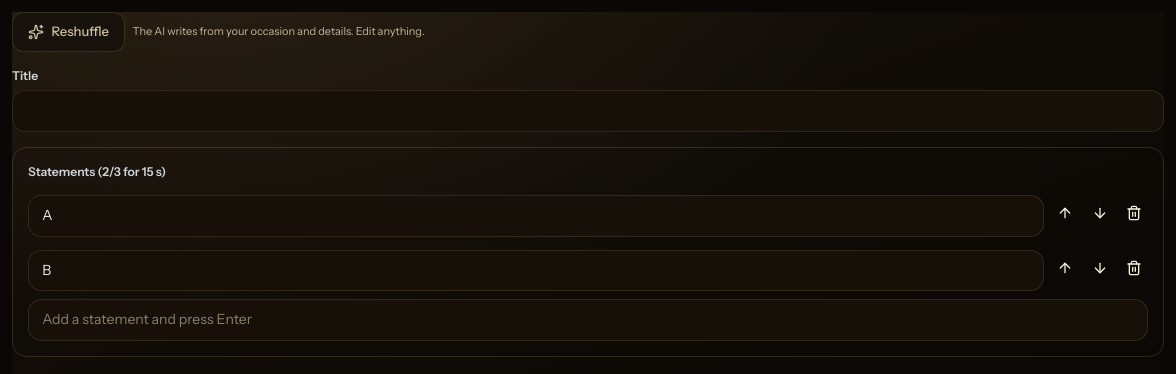
Test: MomentsWordsStep › reorders, deletes and adds statements, each building from the words just saved
Click the button named "move statement 2 up": [1065, 268] box left=1051, top=254, right=1079, bottom=281
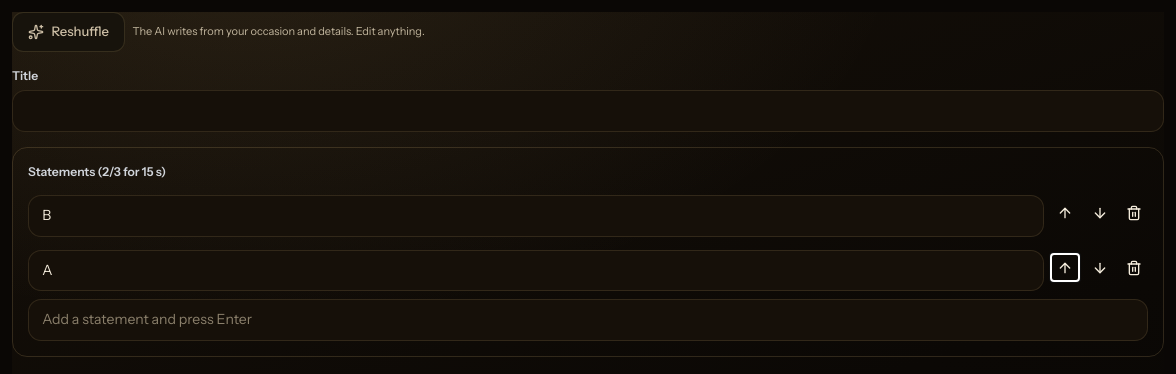
Click the button named "delete statement 1": [1134, 213] box left=1121, top=199, right=1148, bottom=226
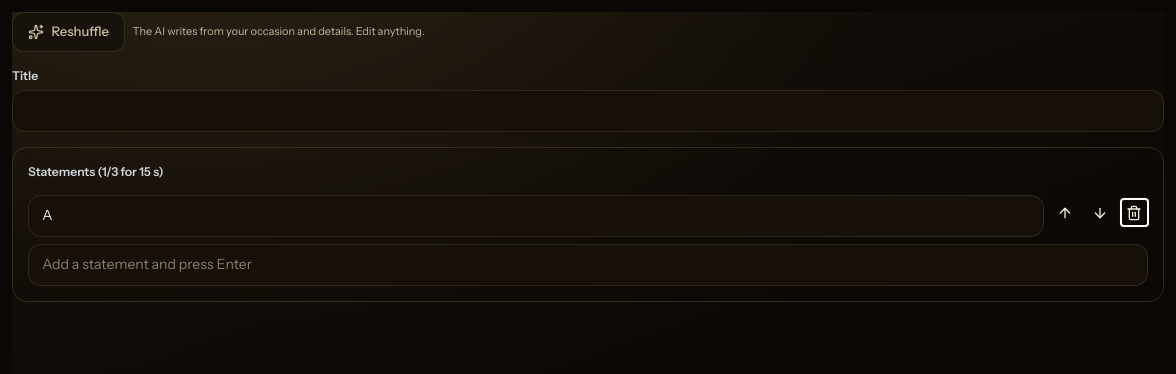
In the field named "new statement": [588, 265] box left=28, top=244, right=1148, bottom=286, type "C"
Then press Enter
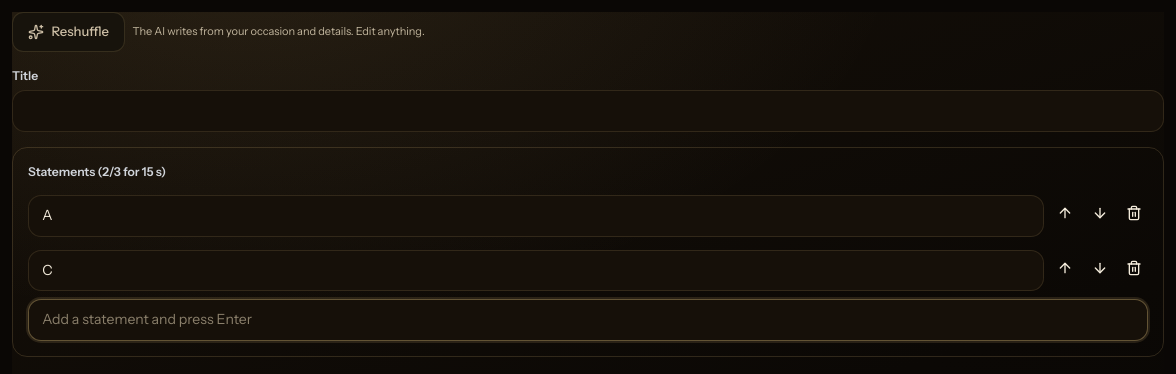
Now the field named "Statement 2" holds "C", box left=28, top=250, right=1044, bottom=291
